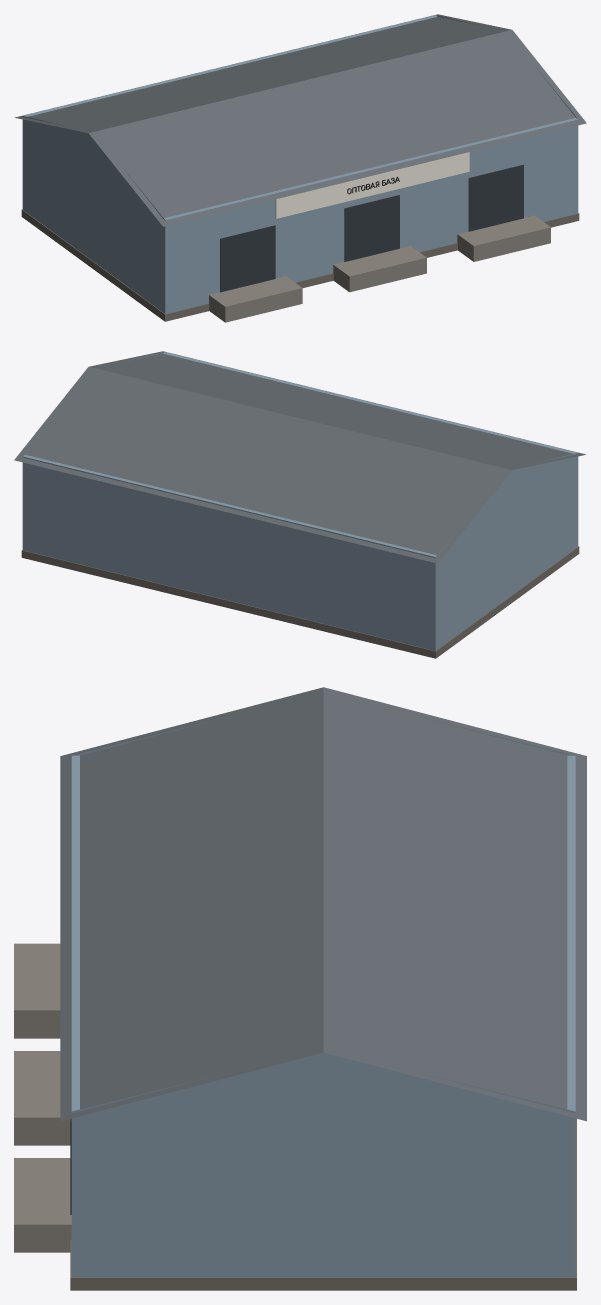
Rendered from wholesale.glb.
The picture shows the model from 3 angles, top to bottom: view 1: azimuth 30°, elevation 25°; view 2: azimuth 150°, elevation 25°; view 3: azimuth 270°, elevation 25°; orthographic projection. The views are drawn at different scales.
Visible parts, largest first — view 1: wholesale; view 2: wholesale; view 3: wholesale.
Boxes of the visible parts, box(x1,y1,x2,y2) form: wholesale: box(14, 14, 586, 322); wholesale: box(14, 351, 585, 658); wholesale: box(14, 687, 586, 1290).
Bounding box in the file's own units: 30.7 × 9.5 × 20.35.
